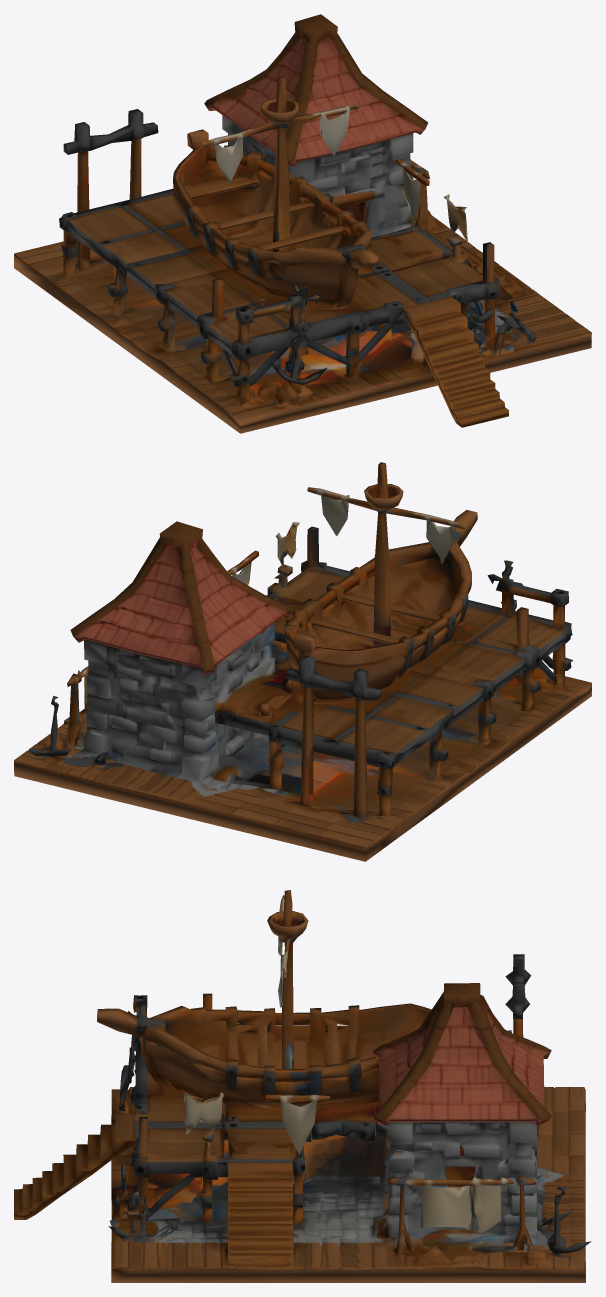
The model's file is medievalHarbor.fbx.
The picture shows the model from 3 angles, top to bottom: view 1: azimuth 30°, elevation 25°; view 2: azimuth 150°, elevation 25°; view 3: azimuth 270°, elevation 25°; orthographic projection. The views are drawn at different scales.
Visible parts, largest first — view 1: tripo_node_1d7ccd0c; view 2: tripo_node_1d7ccd0c; view 3: tripo_node_1d7ccd0c.
Part boxes in pixels (left/top/right/bottom): tripo_node_1d7ccd0c: left=14, top=14, right=591, bottom=433; tripo_node_1d7ccd0c: left=14, top=462, right=591, bottom=861; tripo_node_1d7ccd0c: left=14, top=890, right=591, bottom=1282.
Size of the model in its own units: 0.7374 by 0.5303 by 0.9958.
Materials: 1 (1 with a texture image).
